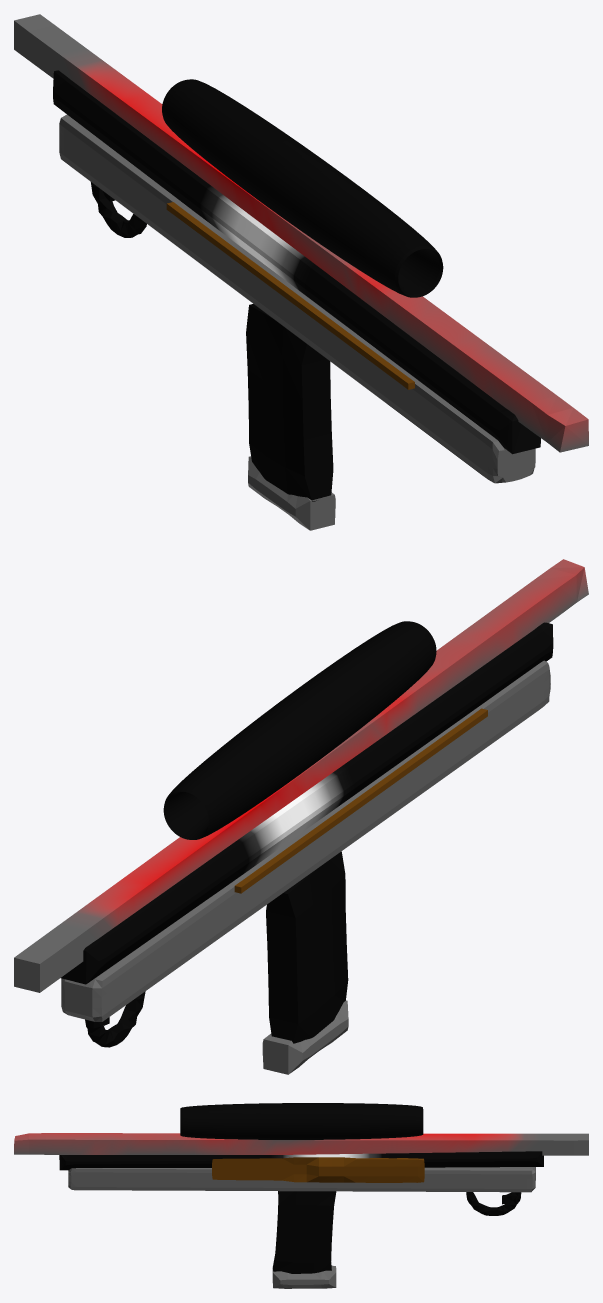
Rendered from machine-gun.glb.
3 renders of one model, top to bottom at view 1: azimuth 30°, elevation 25°; view 2: azimuth 150°, elevation 25°; view 3: azimuth 270°, elevation 25°, orthographic. The views are drawn at different scales.
Parts seen in each view (by area): view 1: ボックス (×4), トーラス (×2), 円柱, ボックス 1; view 2: ボックス (×4), トーラス (×2), 円柱, ボックス 1; view 3: ボックス (×4), トーラス (×2), ボックス 1, 円柱.
Boxes of the visible parts, <box> form: ボックス (×4): <box>14,14,588,530</box>; トーラス (×2): <box>91,79,443,297</box>; 円柱: <box>53,70,540,454</box>; ボックス 1: <box>166,202,414,389</box>; ボックス (×4): <box>14,559,588,1074</box>; トーラス (×2): <box>85,621,436,1047</box>; 円柱: <box>61,622,553,984</box>; ボックス 1: <box>234,708,487,893</box>; ボックス (×4): <box>14,1133,588,1288</box>; トーラス (×2): <box>180,1103,521,1215</box>; ボックス 1: <box>212,1157,424,1182</box>; 円柱: <box>59,1151,543,1170</box>.
Bounding box in the file's own units: 0.9169 × 4.17 × 11.84.
